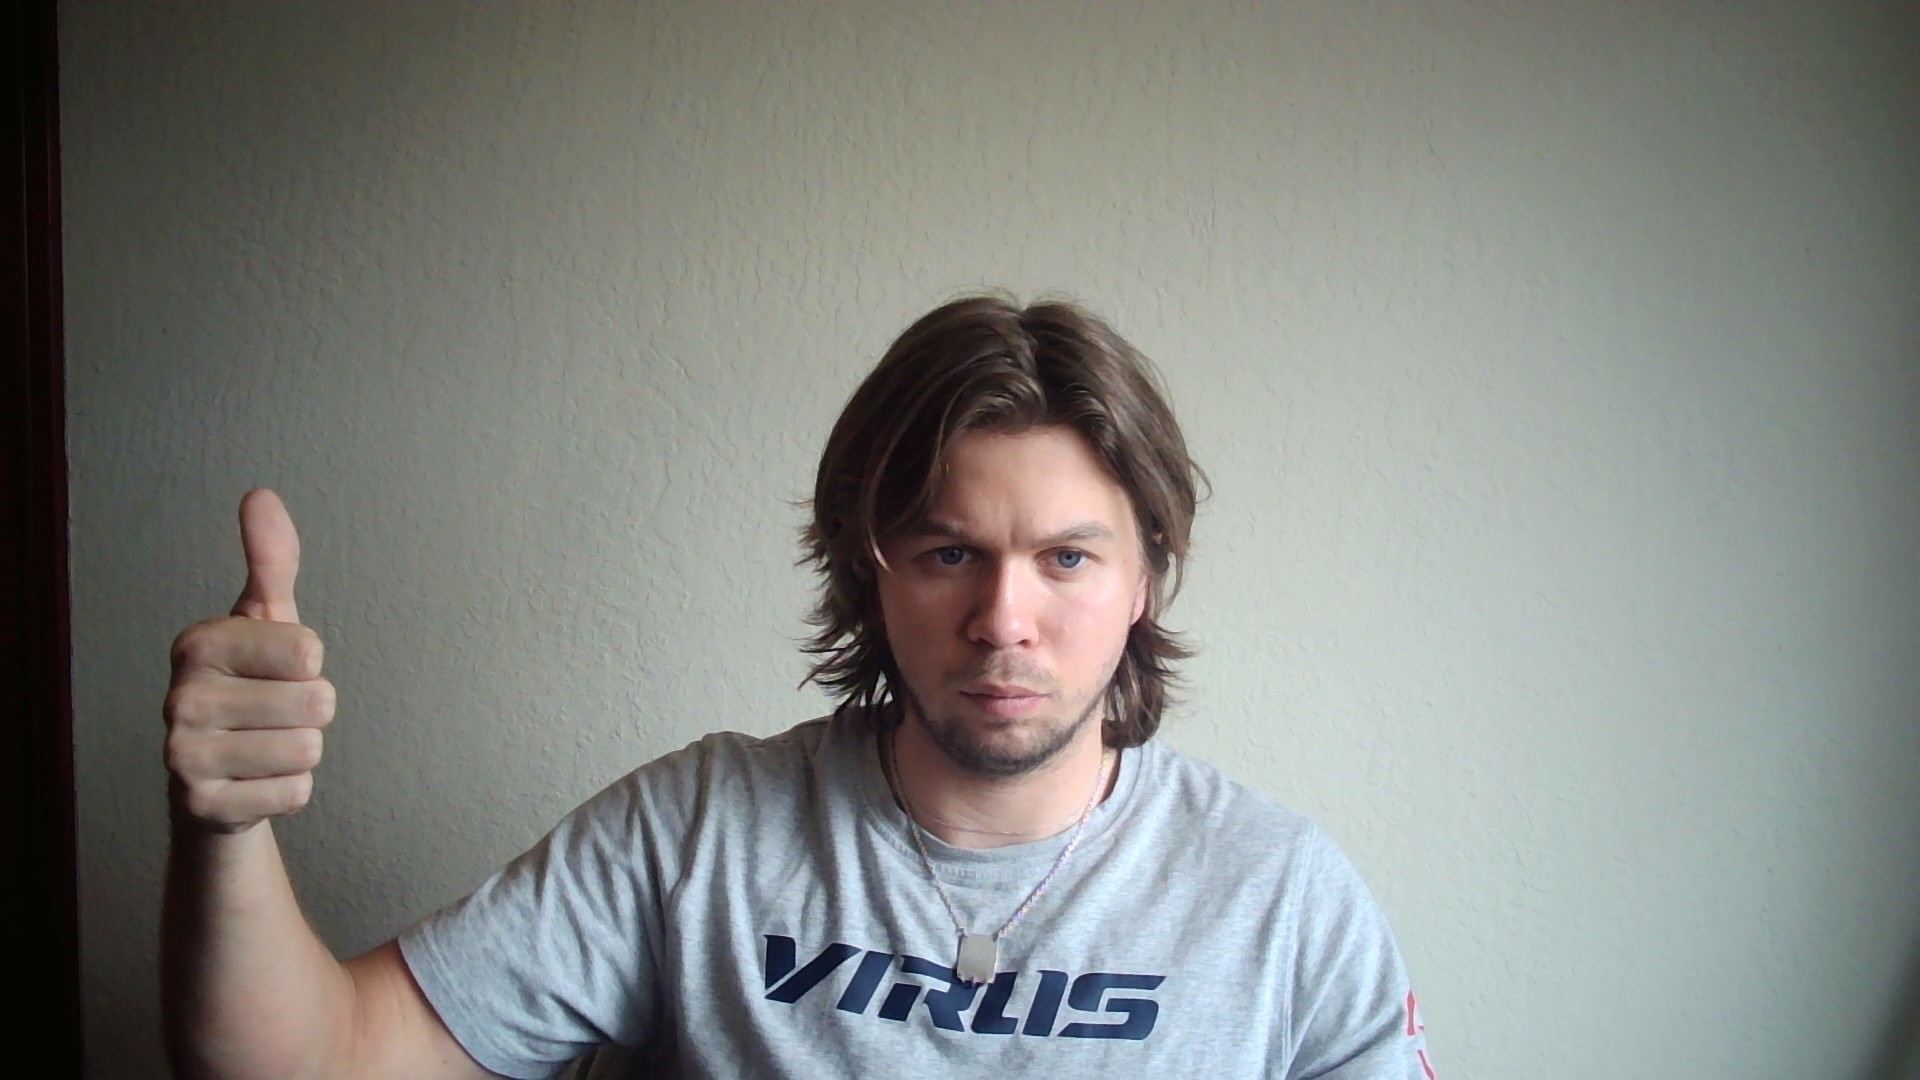good: (164, 487, 335, 832)
